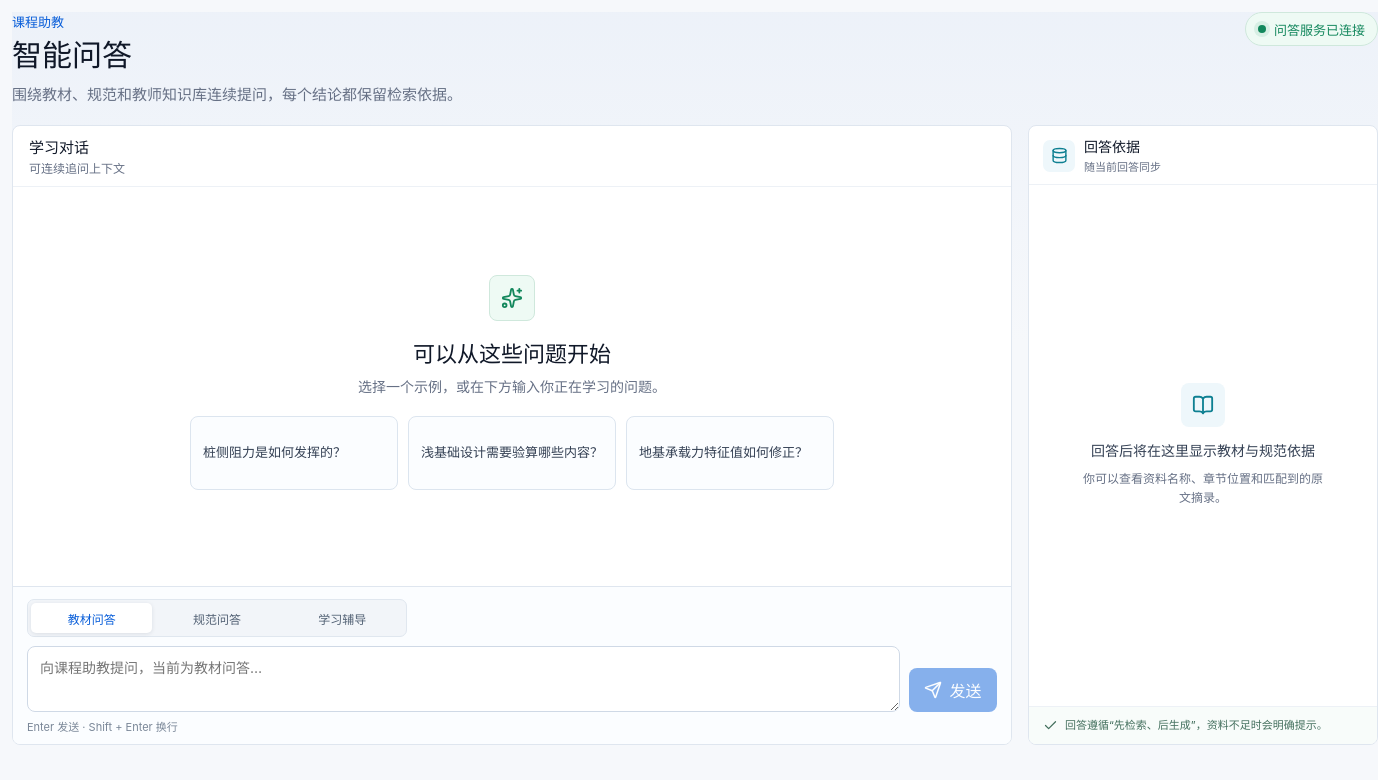
Test: QAWorkbench › starts a new conversation after confirmation
Step 1. Type "解释桩侧阻力" into the text box named "输入问题" → (464, 679), box [27, 646, 900, 712]
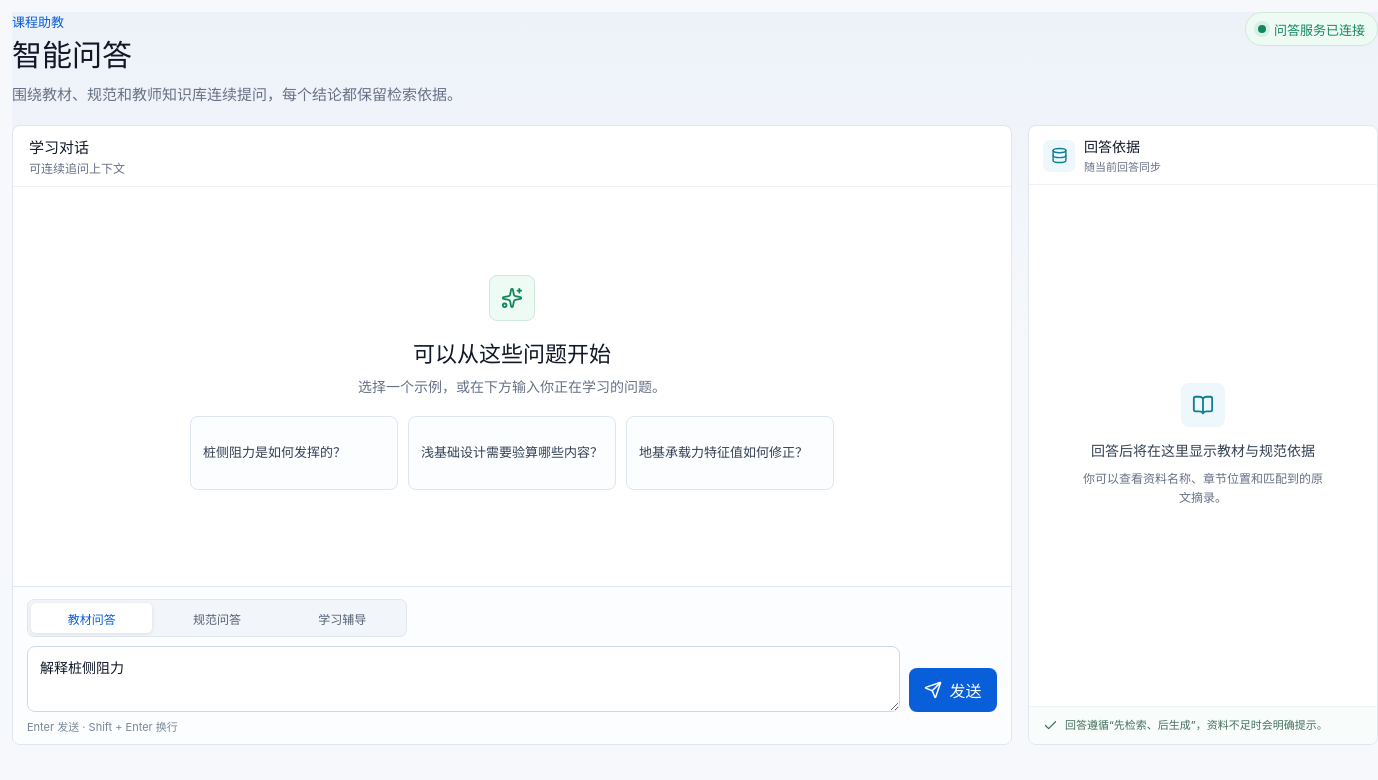
Step 2. Click the button with aria-label "发送问题" → (953, 690), box [909, 668, 997, 712]
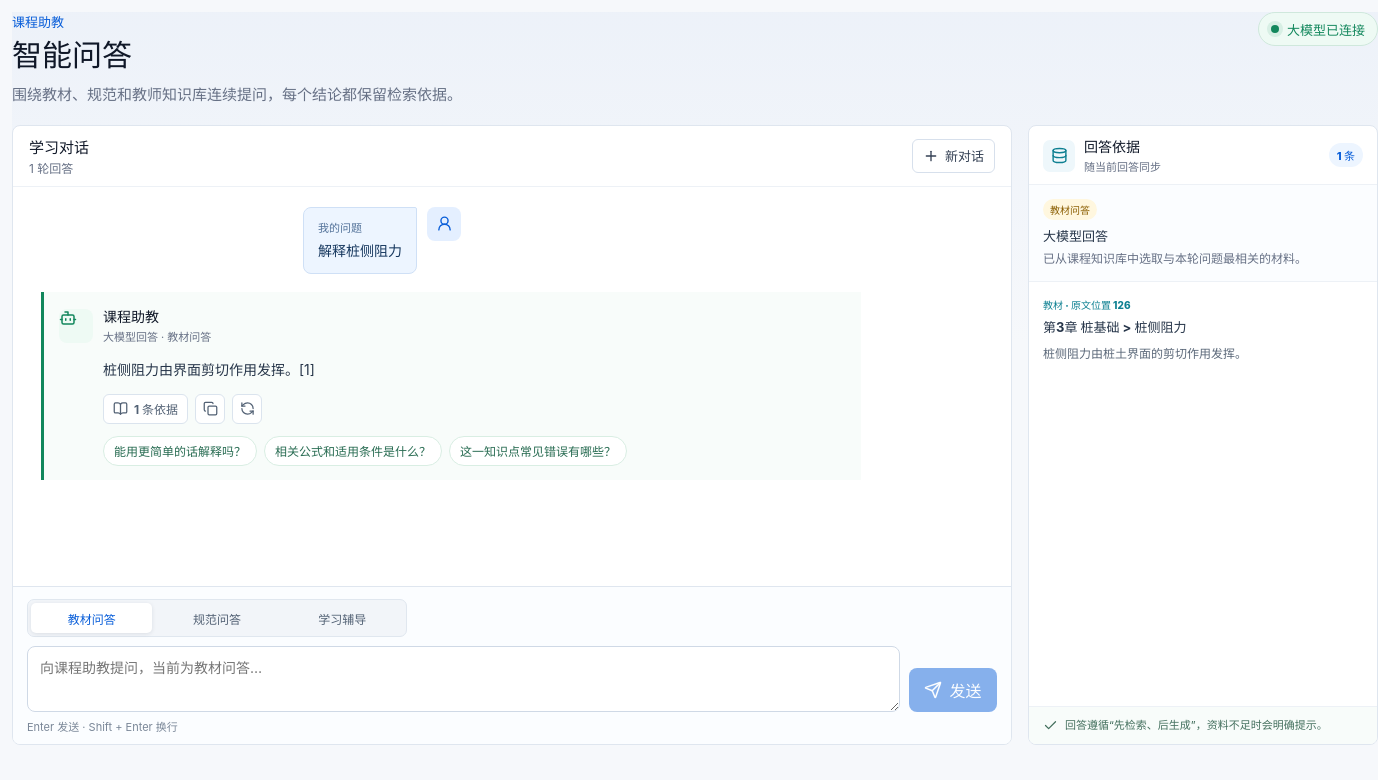
Expected: the text "桩侧阻力由界面剪切作用发挥。[1]" is shown, [103, 361, 315, 378]
Step 3. Click the button "新对话" → (954, 156), box [912, 138, 995, 172]
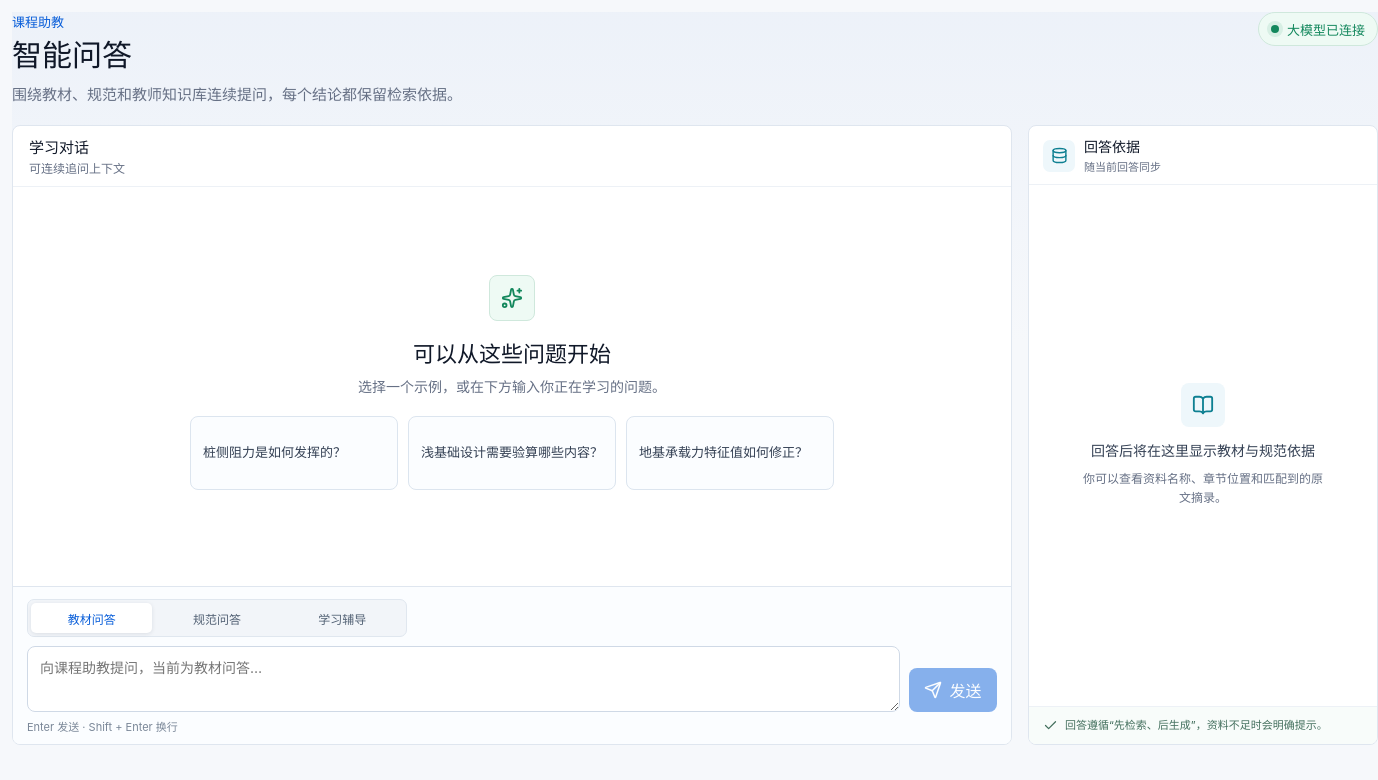
Expected: the heading "可以从这些问题开始" is shown, [413, 336, 611, 368]
Expected: the button "新对话" is gone
